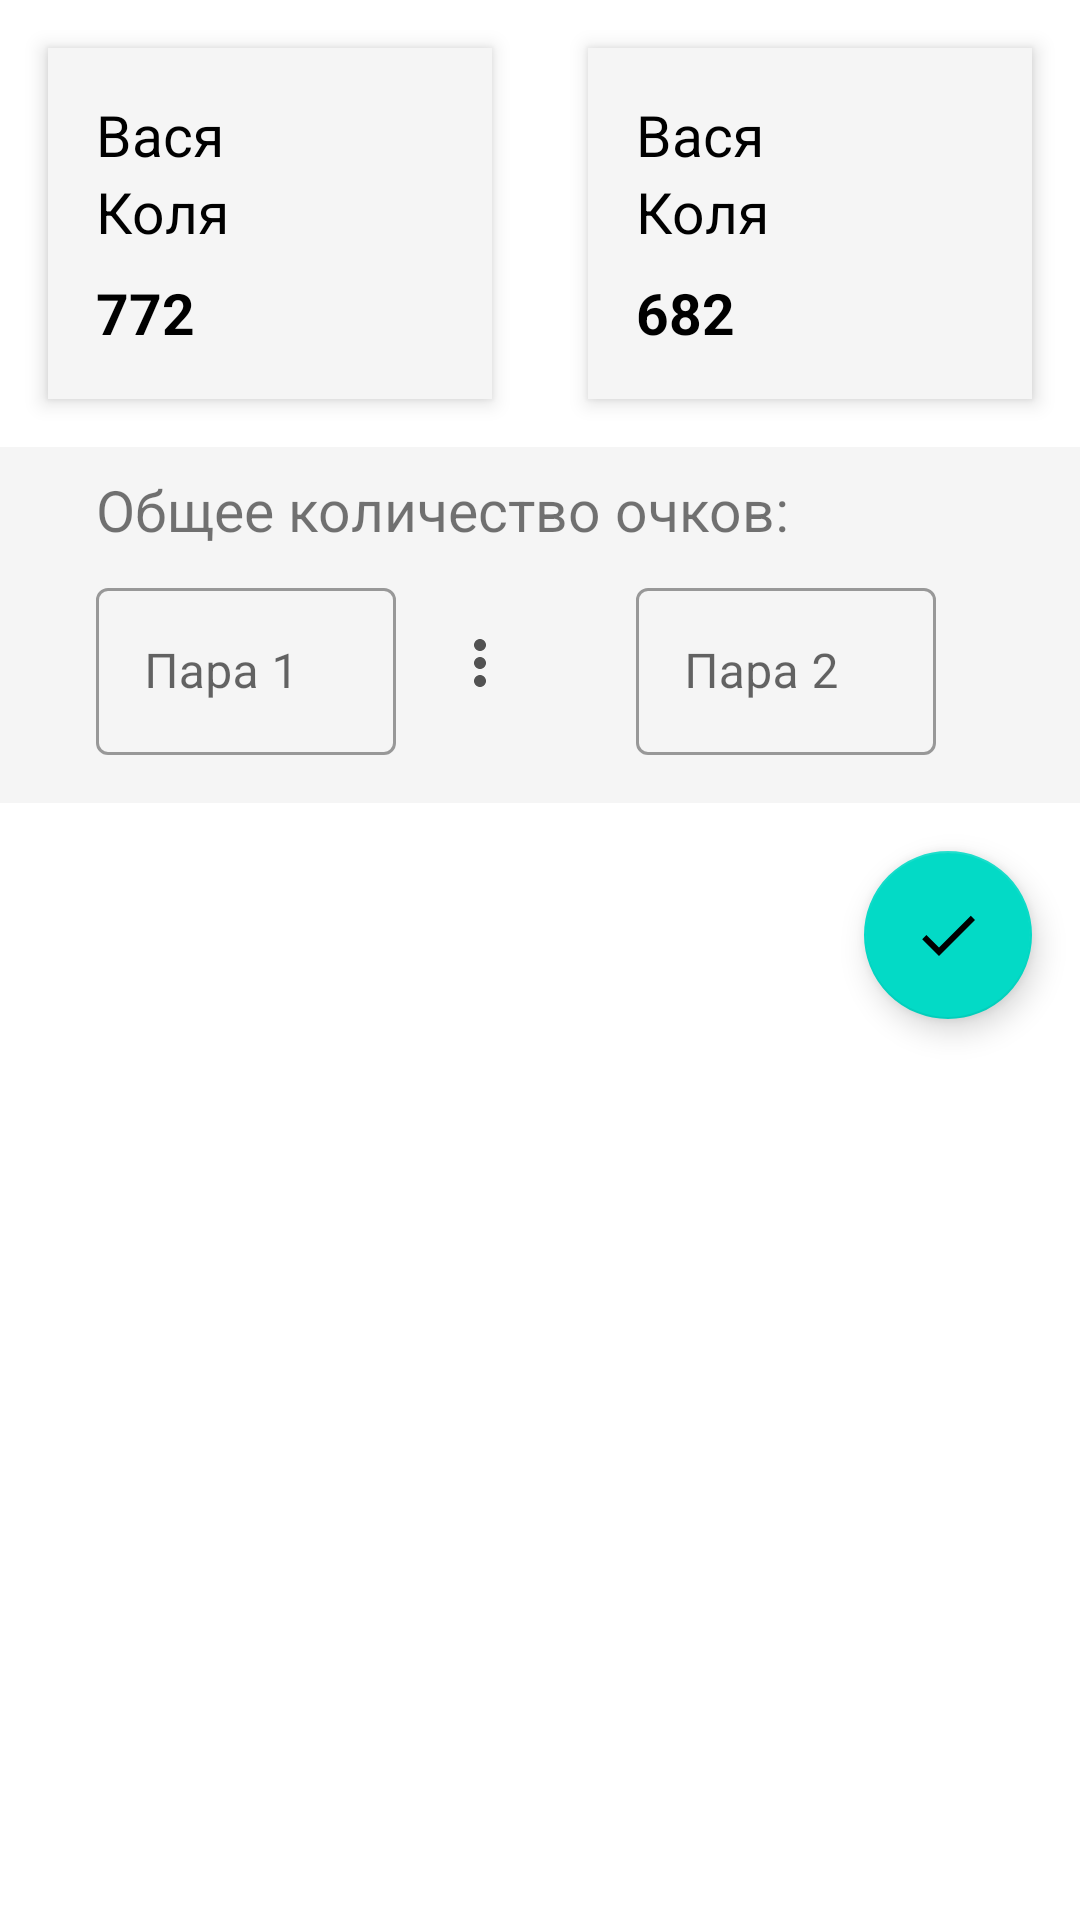

Point at icon controls on the screen. Image size 1080×1920, points as [x,y].
done: [948,935]
more vert: [480,663]
